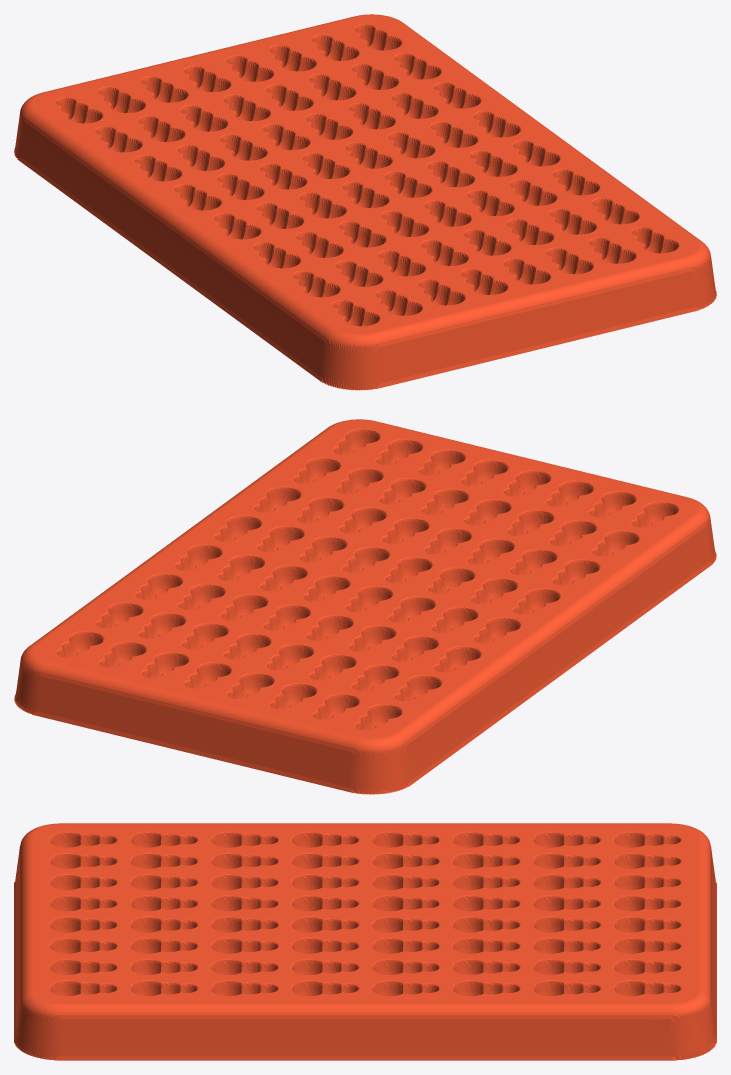
File: mold.glb
3 renders of one model, top to bottom at view 1: azimuth 30°, elevation 25°; view 2: azimuth 150°, elevation 25°; view 3: azimuth 270°, elevation 25°, orthographic.
Visible parts, largest first — view 1: geometry_0; view 2: geometry_0; view 3: geometry_0.
Boxes of the visible parts, left/top/right/bottom form: geometry_0: left=14, top=14, right=716, bottom=390; geometry_0: left=14, top=419, right=716, bottom=794; geometry_0: left=14, top=823, right=716, bottom=1060.
Bounding box in the file's own units: 0.0887 × 0.0105 × 0.1355.
